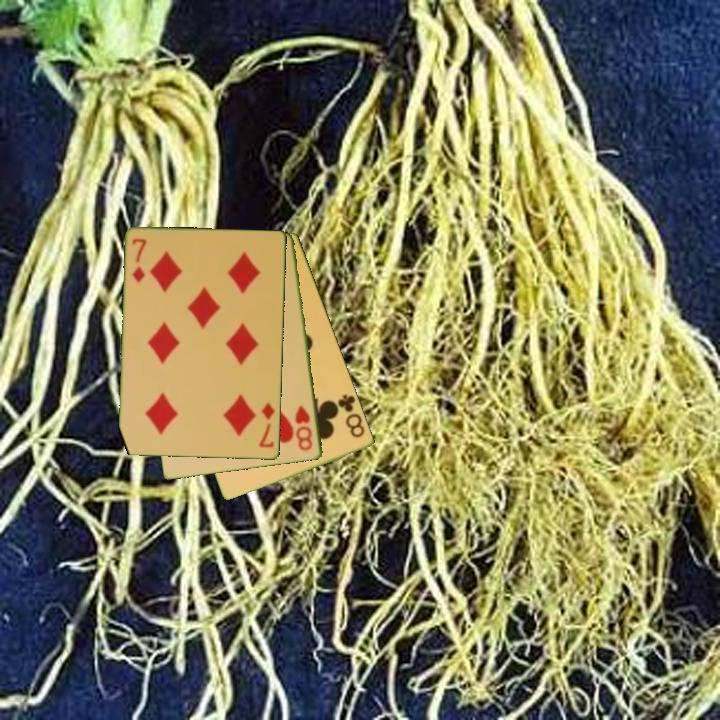7d: (256, 399, 278, 451), (129, 235, 149, 286)
8c: (331, 391, 368, 441)
8h: (292, 402, 315, 454)
